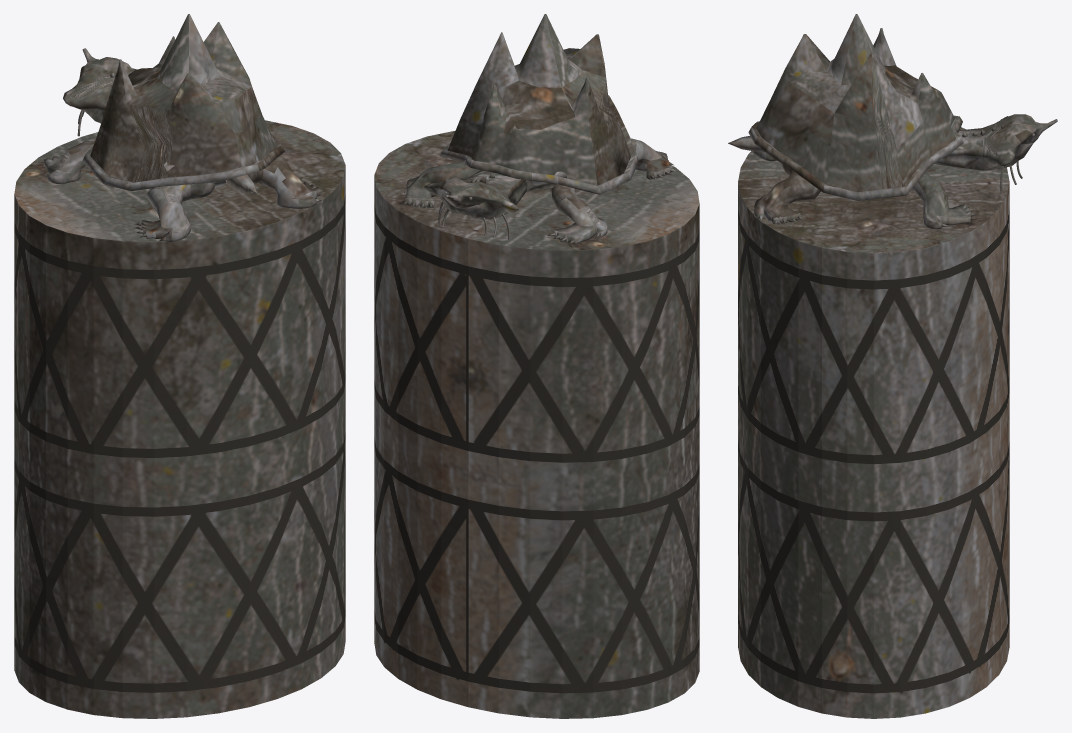
Rendered from Totem-Tortuga.fbx.
3 views of the same model, side by side, from view 1: azimuth 30°, elevation 25°; view 2: azimuth 150°, elevation 25°; view 3: azimuth 270°, elevation 25° (orthographic). The views are drawn at different scales.
Parts seen in each view (by area): view 1: Totem Base.008; view 2: Totem Base.008; view 3: Totem Base.008.
Part boxes in pixels (x1,y1,x2,y2): Totem Base.008: (14, 14, 345, 718); Totem Base.008: (374, 14, 699, 718); Totem Base.008: (728, 14, 1057, 718).
Bounding box in the file's own units: 2 × 4.12 × 1.94.
1 material, 1 textured.
